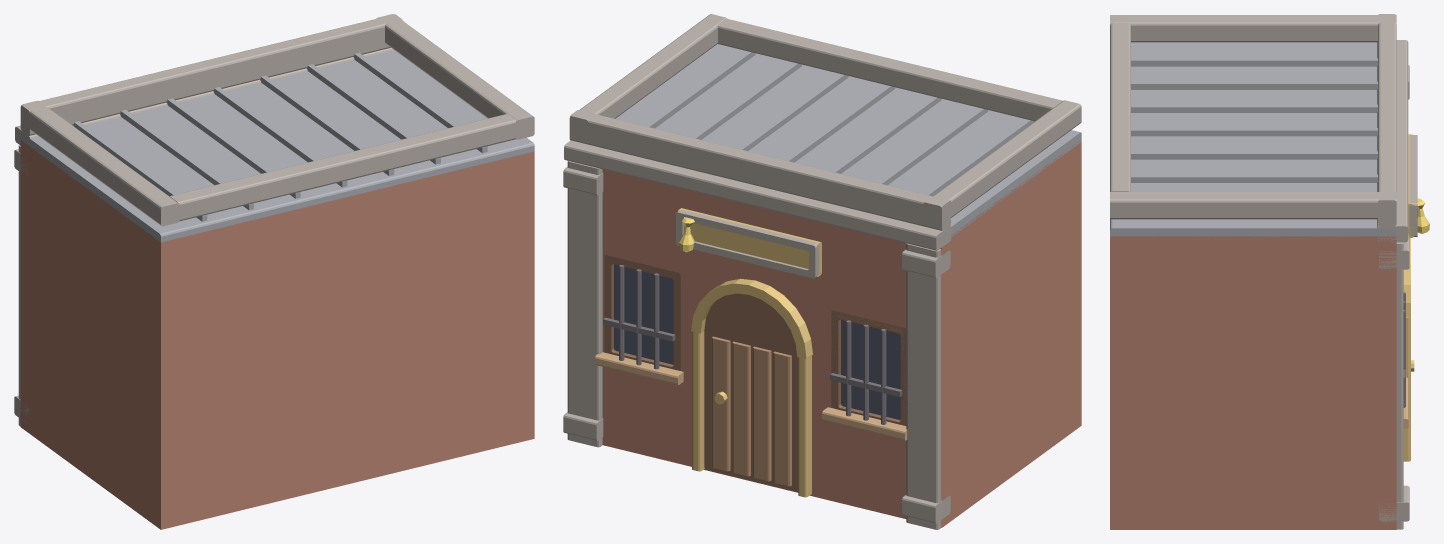
File: Kit_Facade_Bank.fbx
3 views of the same model, side by side, from view 1: azimuth 30°, elevation 25°; view 2: azimuth 150°, elevation 25°; view 3: azimuth 270°, elevation 25° (orthographic). The views are drawn at different scales.
Parts seen in each view (by area): view 1: Kit_Facade_Bank; view 2: Kit_Facade_Bank; view 3: Kit_Facade_Bank.
Part boxes in pixels (box(x1,y1,x2,y2)): Kit_Facade_Bank: box(14, 14, 534, 529); Kit_Facade_Bank: box(563, 14, 1081, 529); Kit_Facade_Bank: box(1110, 14, 1429, 529).
Size of the model in its own units: 4 by 3.3 by 2.9.
